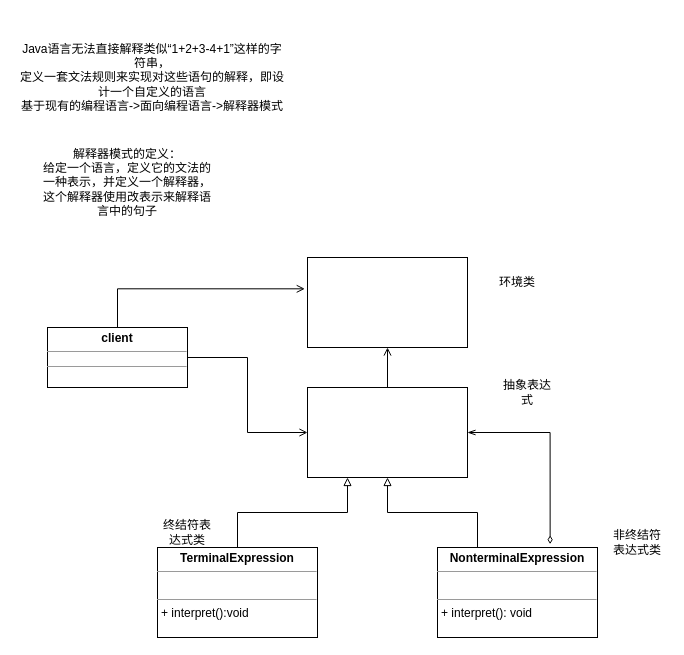
Image size: 684x655. Some labels were removed from this diagram. Each missing label, with the centre of its shape:
"AbstractExpression +interpret():void" goes at (x=387, y=432).
"Context" goes at (x=387, y=302).
